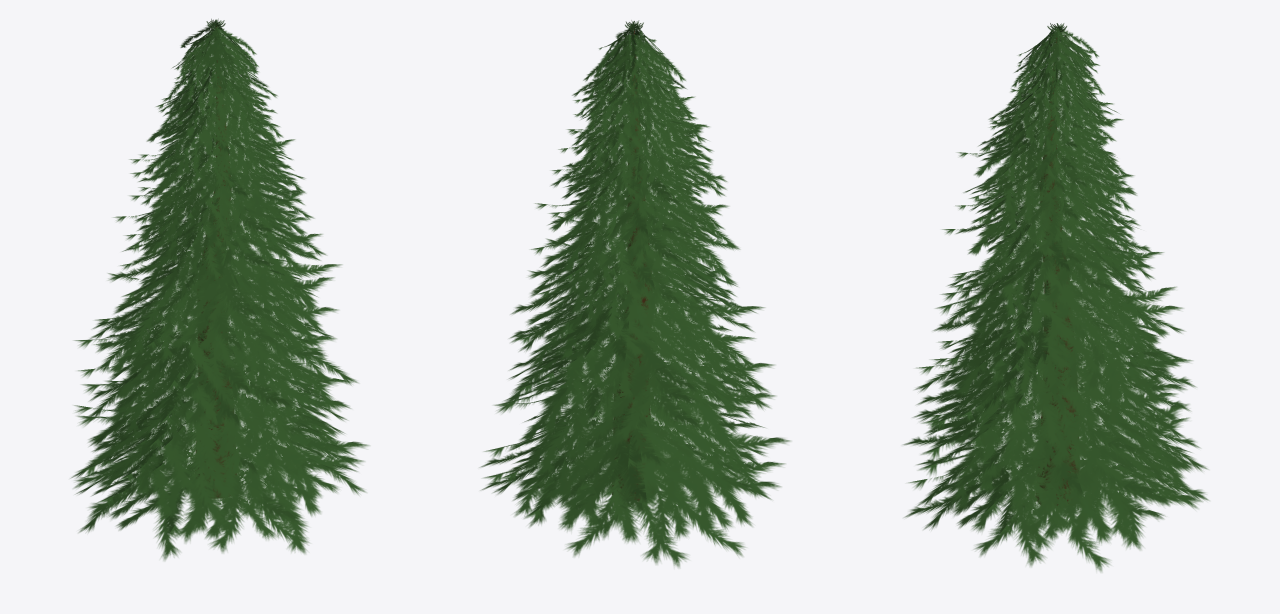
The model's file is pine.glb.
The picture shows the model from 3 angles, left to right: view 1: azimuth 30°, elevation 25°; view 2: azimuth 150°, elevation 25°; view 3: azimuth 270°, elevation 25°; orthographic projection.
Visible parts, largest first — view 1: TreeBranch_TreeBranch_0, Tree_Tree_0; view 2: TreeBranch_TreeBranch_0; view 3: TreeBranch_TreeBranch_0, Tree_Tree_0.
Part boxes in pixels (left/top/right/bottom): TreeBranch_TreeBranch_0: left=70, top=18, right=369, bottom=560; Tree_Tree_0: left=196, top=27, right=236, bottom=497; TreeBranch_TreeBranch_0: left=479, top=20, right=790, bottom=567; TreeBranch_TreeBranch_0: left=903, top=23, right=1209, bottom=571; Tree_Tree_0: left=1036, top=38, right=1078, bottom=505.
Size of the model in its own units: 4.72 by 6.6 by 4.76.
Materials: 2 (2 with a texture image).
